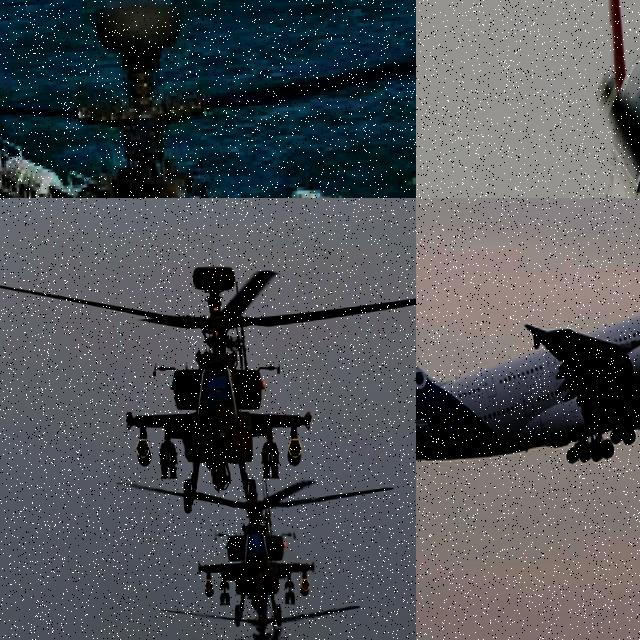A380: (416, 248, 640, 475)
Apache: (0, 214, 416, 504), (0, 0, 416, 198), (128, 463, 398, 631), (211, 622, 343, 640)
KT-1: (416, 0, 640, 198), (416, 128, 640, 198)
